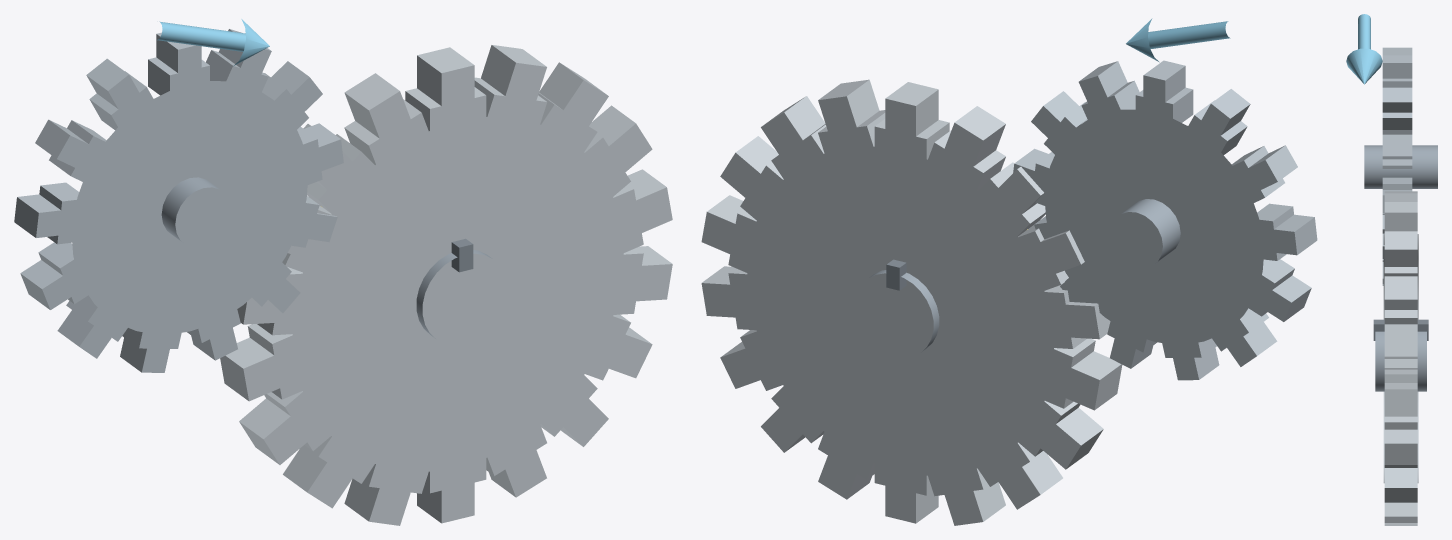
File: gear.glb
The picture shows the model from 3 angles, left to right: view 1: azimuth 30°, elevation 25°; view 2: azimuth 150°, elevation 25°; view 3: azimuth 270°, elevation 25°; orthographic projection. The views are drawn at different scales.
Visible parts, largest first — view 1: gear_rim, driven_gear, gear_teeth, rotation_direction, driven_gear_shaft; view 2: gear_rim, driven_gear, gear_teeth, rotation_direction, driven_gear_shaft; view 3: gear_teeth, driven_gear, driven_gear_shaft, rotation_direction, gear_hub, gear_rim, keyway.
Part boxes in pixels (x1,y1,x2,y2): gear_rim: [298, 122, 619, 467]; driven_gear: [14, 29, 343, 372]; gear_teeth: [220, 45, 672, 525]; rotation_direction: [157, 19, 269, 66]; driven_gear_shaft: [161, 177, 219, 243]; gear_rim: [751, 151, 1048, 471]; driven_gear: [1013, 60, 1317, 380]; gear_teeth: [701, 79, 1122, 525]; rotation_direction: [1126, 18, 1230, 62]; driven_gear_shaft: [1121, 199, 1180, 263]; gear_teeth: [1384, 191, 1417, 525]; driven_gear: [1382, 47, 1412, 285]; driven_gear_shaft: [1364, 145, 1437, 188]; rotation_direction: [1346, 14, 1382, 84]; gear_hub: [1375, 331, 1426, 391]; gear_rim: [1383, 234, 1418, 483]; keyway: [1373, 319, 1428, 340].
Bounding box in the file's own units: 1.49 × 1.31 × 0.276.
